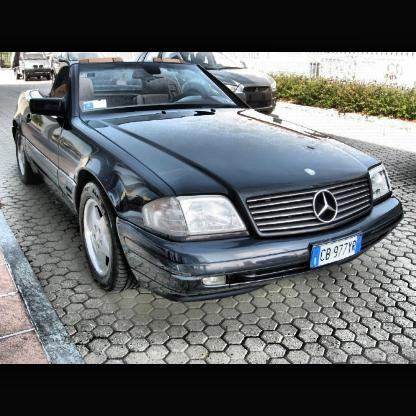Mercedes-Benz 300-Class Convertible 1993: (13, 58, 404, 302)
